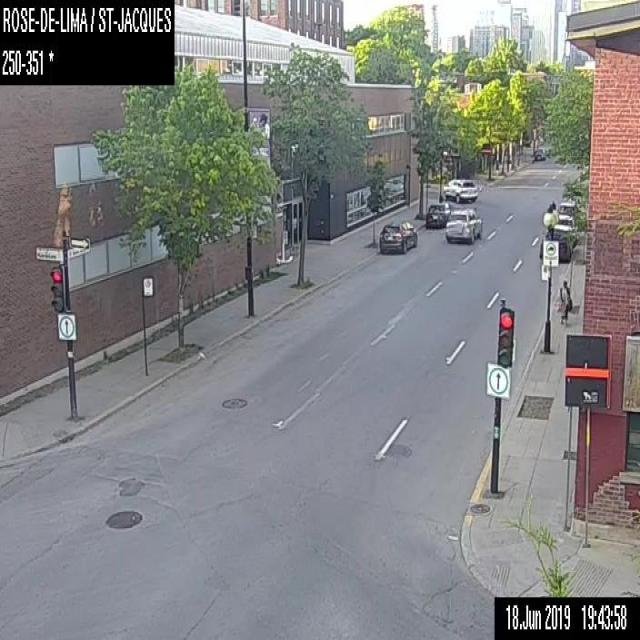pedestrian: (556, 279, 572, 325)
vehicle: (378, 218, 418, 254), (539, 226, 573, 261), (444, 210, 482, 241), (440, 178, 478, 203), (555, 212, 575, 244), (425, 204, 450, 228), (556, 201, 578, 225), (533, 148, 544, 160)
